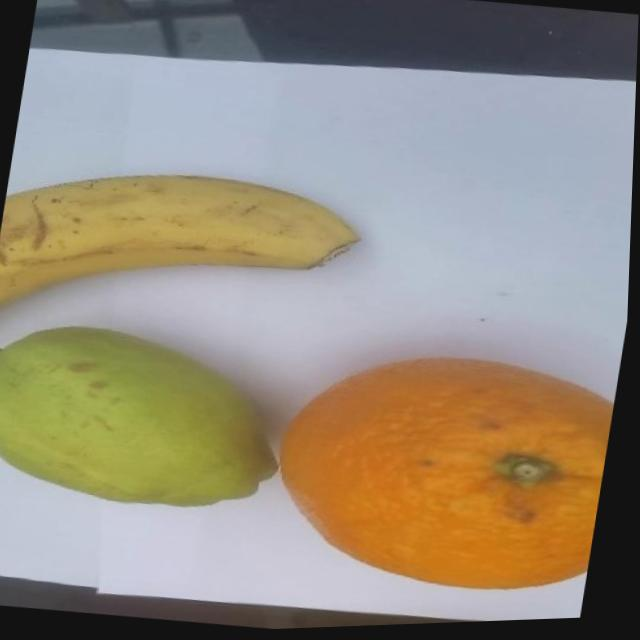Banana: (0, 147, 370, 354)
Orange: (262, 334, 623, 612)
